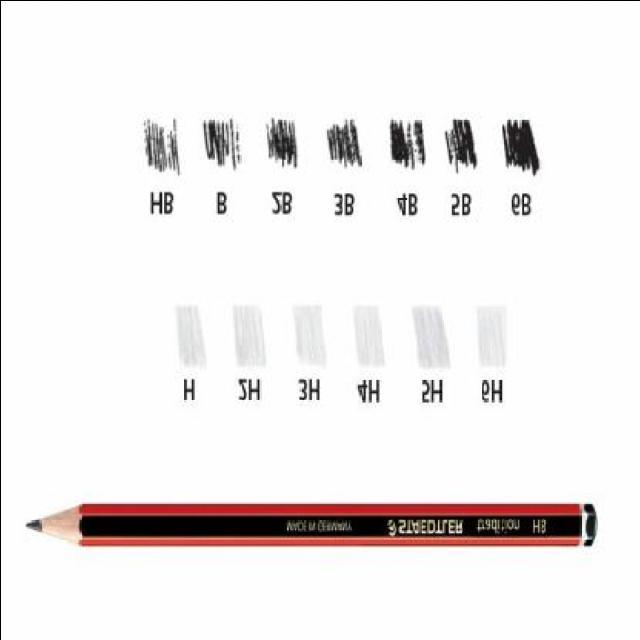Pencil: (20, 490, 94, 558)
